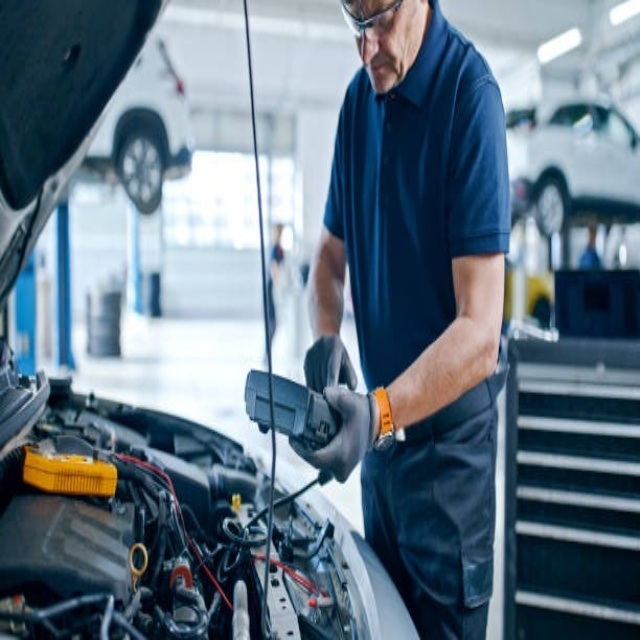Gafas: (339, 0, 409, 40)
Guantes: (294, 383, 380, 484), (303, 334, 357, 397)
Sin_mascara: (360, 47, 398, 93)
